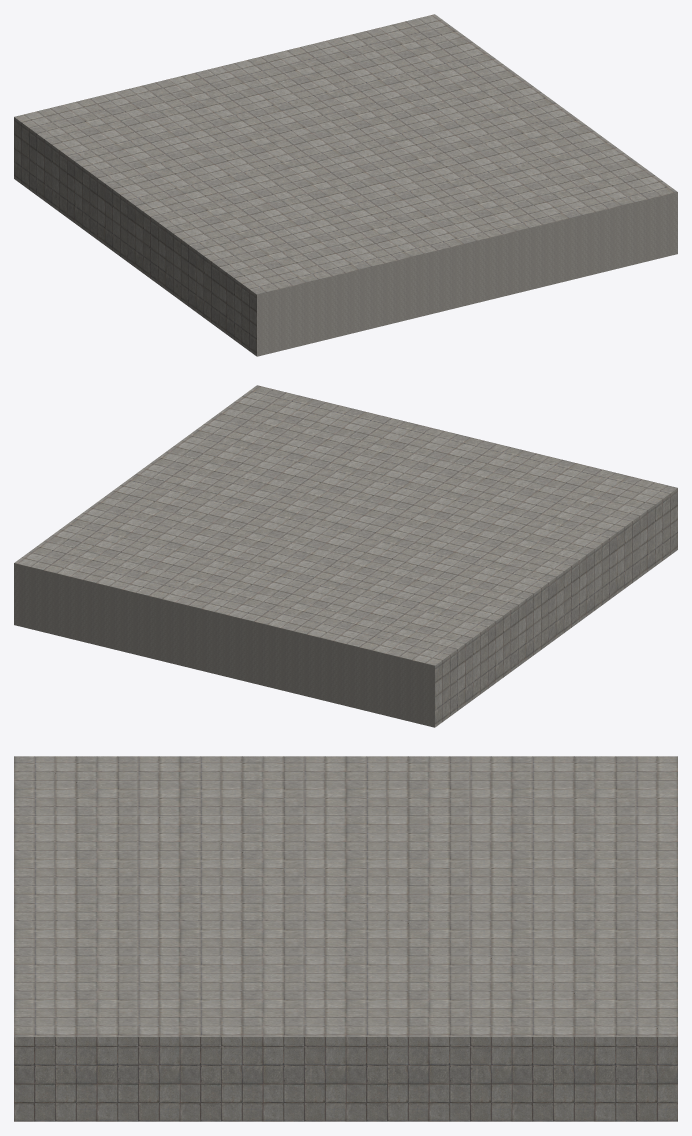
The model's file is pavement5.fbx.
The picture shows the model from 3 angles, top to bottom: view 1: azimuth 30°, elevation 25°; view 2: azimuth 150°, elevation 25°; view 3: azimuth 270°, elevation 25°; orthographic projection. The views are drawn at different scales.
Parts seen in each view (by area): view 1: materialA100; view 2: materialA100; view 3: materialA100.
Part boxes in pixels (x1,y1,x2,y2): materialA100: (14, 14, 677, 356); materialA100: (14, 385, 677, 727); materialA100: (14, 756, 677, 1121).
Bounding box in the file's own units: 12.8 × 1.8 × 12.8.
